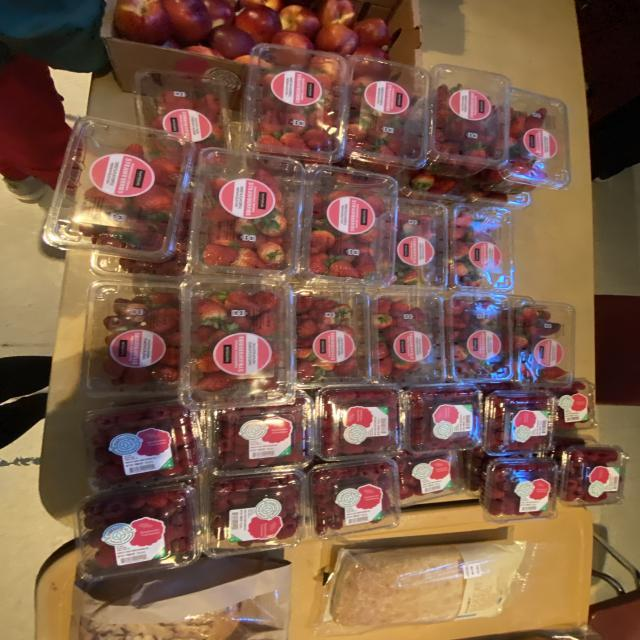Apple -Red-: (115, 0, 172, 45), (163, 0, 212, 45), (235, 5, 282, 44), (208, 24, 255, 60), (278, 5, 322, 40), (315, 22, 358, 55), (353, 18, 390, 48), (317, 0, 357, 26), (202, 0, 235, 28), (272, 30, 313, 50), (353, 61, 390, 80), (183, 45, 225, 59), (275, 50, 310, 66), (353, 45, 388, 60), (238, 0, 283, 11), (162, 39, 180, 49), (233, 55, 252, 64)
Bread: (317, 540, 537, 635), (70, 556, 292, 640)
Raspberries: (77, 482, 200, 581), (83, 400, 203, 491), (203, 470, 305, 558), (207, 391, 313, 475), (308, 459, 400, 539), (315, 384, 403, 461), (405, 384, 482, 454), (483, 390, 557, 456), (483, 458, 558, 522), (558, 445, 627, 506), (395, 451, 465, 508), (557, 379, 593, 428), (547, 434, 597, 465), (463, 448, 493, 496), (475, 381, 523, 399)
Strawberries: (43, 116, 195, 261), (188, 148, 305, 279), (180, 276, 295, 409), (242, 44, 348, 164), (298, 165, 398, 286), (83, 281, 180, 398), (345, 55, 430, 174), (425, 65, 510, 178), (480, 89, 572, 192), (92, 192, 192, 281), (135, 70, 230, 149), (295, 288, 370, 388), (372, 290, 445, 384), (445, 292, 513, 381), (450, 204, 513, 291), (513, 300, 575, 385), (393, 199, 448, 288), (400, 170, 465, 202), (468, 191, 532, 209)
